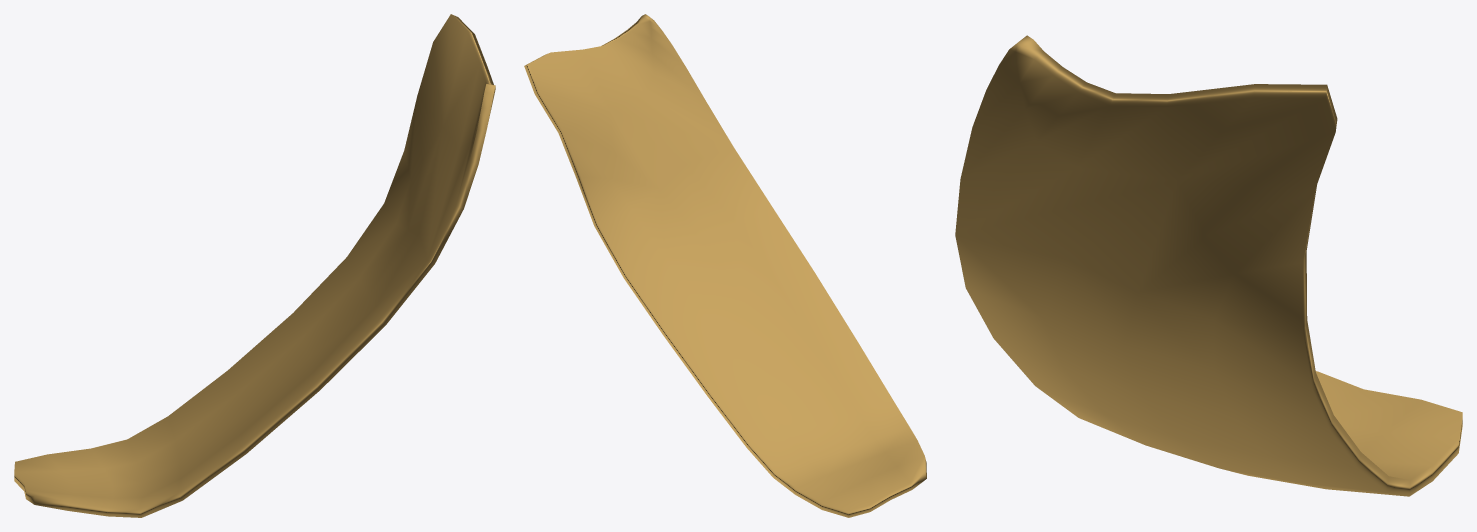
3 views of the same model, side by side, from view 1: azimuth 30°, elevation 25°; view 2: azimuth 150°, elevation 25°; view 3: azimuth 270°, elevation 25° (orthographic). The views are drawn at different scales.
Visible parts, largest first — view 1: 右侧盂肱中韧带; view 2: 右侧盂肱中韧带; view 3: 右侧盂肱中韧带.
Part boxes in pixels (<box>): 右侧盂肱中韧带: <box>14,14,495,517</box>; 右侧盂肱中韧带: <box>524,14,926,517</box>; 右侧盂肱中韧带: <box>955,35,1462,496</box>.
Size of the model in its own units: 0.0397 by 0.0338 by 0.0224.
